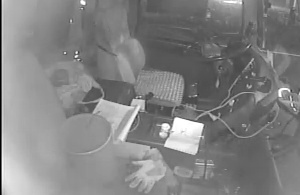paper: (162, 115, 206, 157)
